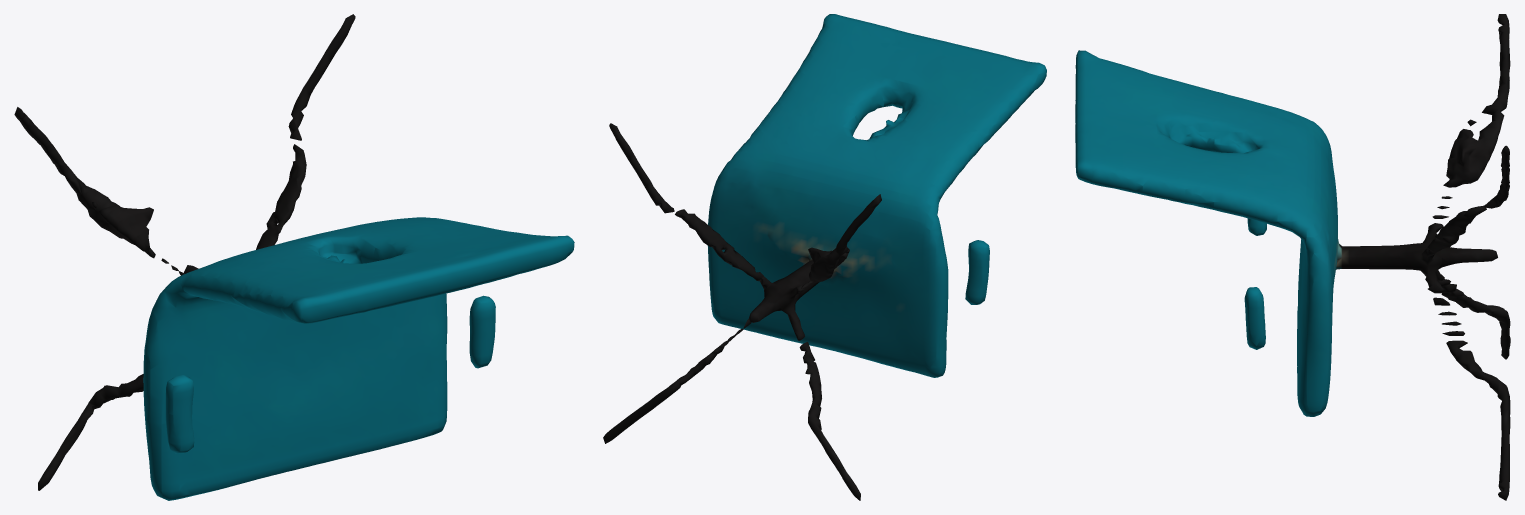
Rendered from a chair with move affordance.obj.
3 renders of one model, left to right at view 1: azimuth 30°, elevation 25°; view 2: azimuth 150°, elevation 25°; view 3: azimuth 270°, elevation 25°, orthographic. The views are drawn at different scales.
Bounding box in the file's own units: 0.7903 × 0.8811 × 0.9888.
